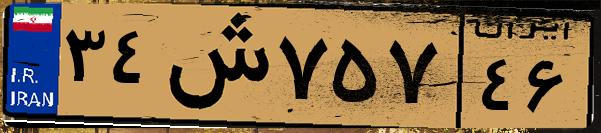3: (57, 26, 110, 100)
4: (475, 38, 525, 113), (110, 28, 158, 98)
5: (330, 28, 385, 110)
6: (525, 38, 570, 115)
7: (270, 28, 330, 110), (385, 28, 445, 110)
ش: (158, 12, 270, 120)
